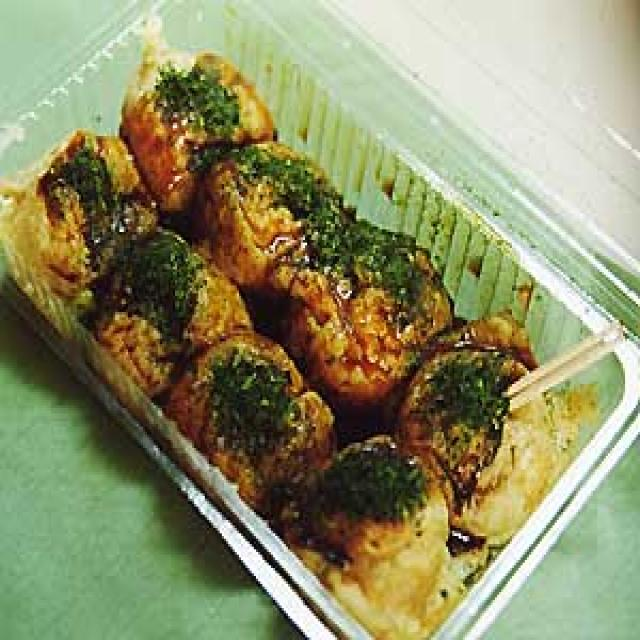炸货点心: (0, 24, 595, 640)
